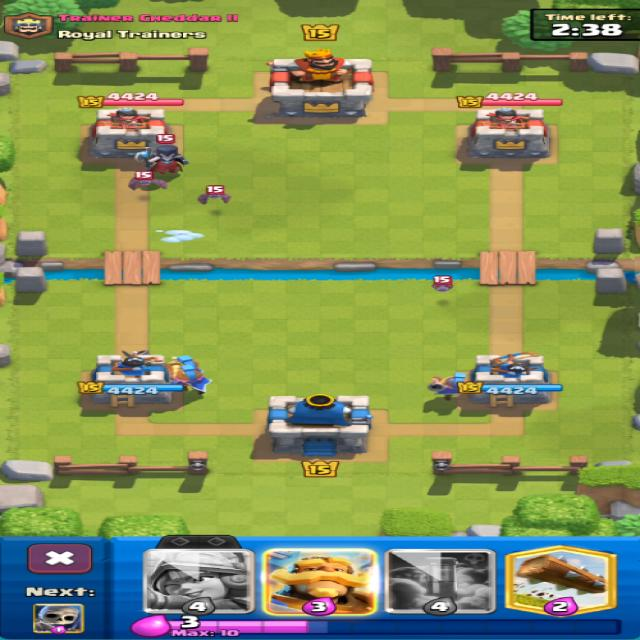Enemy-Bat: (129, 172, 165, 189), (198, 193, 230, 204), (433, 277, 452, 291)
Enemy-KingTower: (270, 49, 372, 116)
Enemy-NightWitch: (134, 145, 187, 174)
Enemy-PrincessTower: (467, 107, 549, 163), (90, 107, 170, 158)
